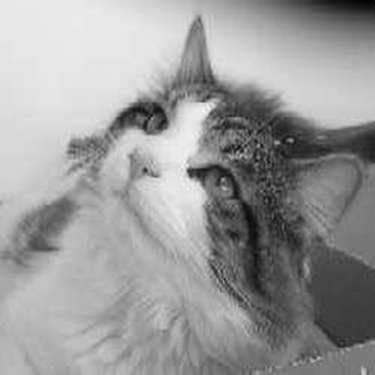cat: (4, 12, 370, 370)
